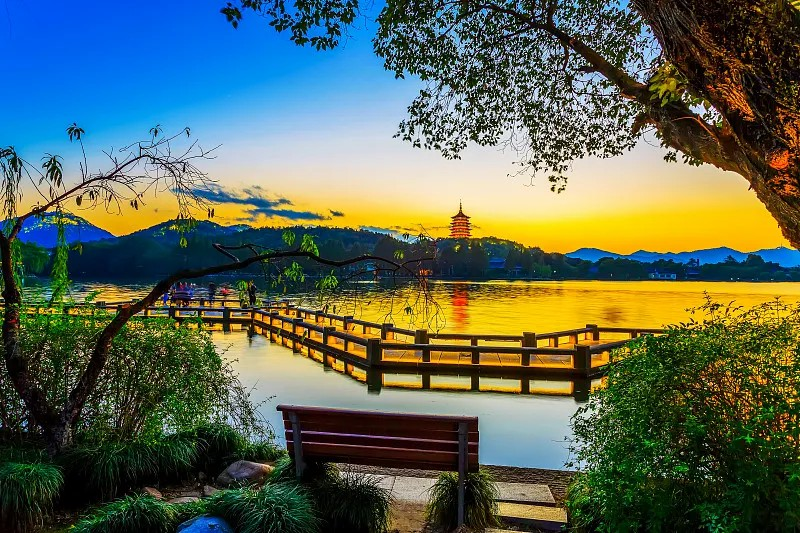Leifeng: (447, 198, 473, 240)
